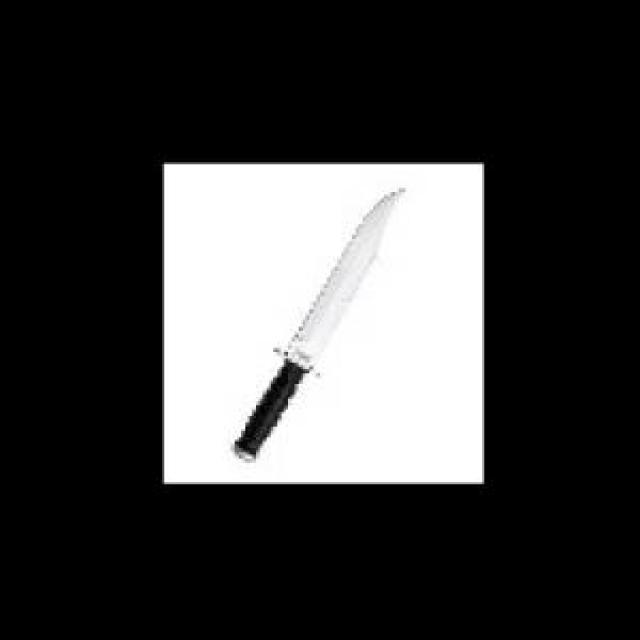knife: (233, 186, 419, 467)
